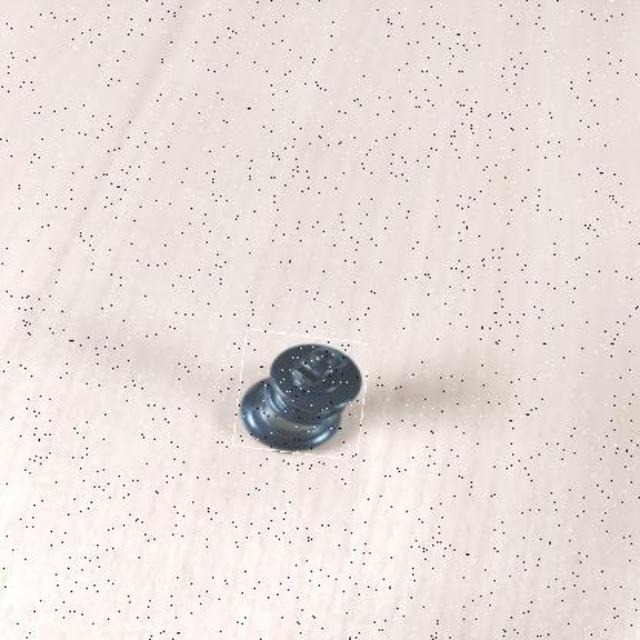black-king: (236, 333, 366, 456)
